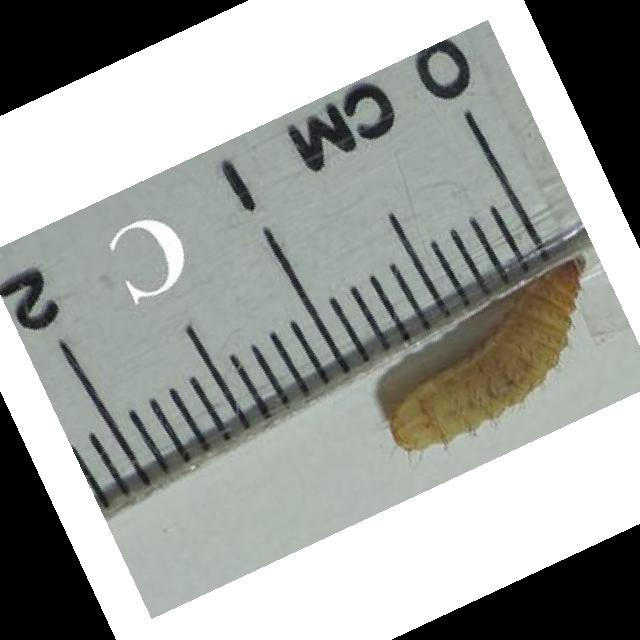Maggot: (392, 252, 592, 455)
